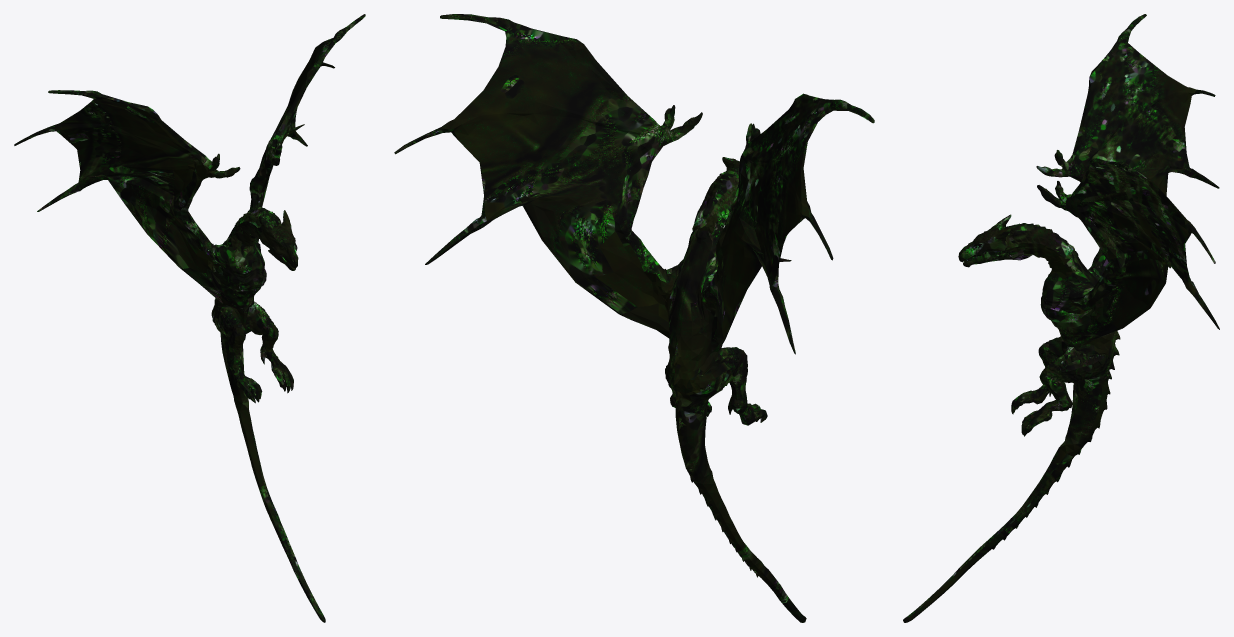
File: frame_0016_uv.obj
3 views of the same model, side by side, from view 1: azimuth 30°, elevation 25°; view 2: azimuth 150°, elevation 25°; view 3: azimuth 270°, elevation 25° (orthographic). The views are drawn at different scales.
Parts seen in each view (by area): view 1: pMesh1; view 2: pMesh1; view 3: pMesh1.
Boxes of the visible parts, x1=… form: pMesh1: x1=14, y1=14, x2=365, y2=622; pMesh1: x1=394, y1=14, x2=874, y2=622; pMesh1: x1=903, y1=14, x2=1219, y2=622.
Bounding box in the file's own units: 8.95 × 13.06 × 7.15.
